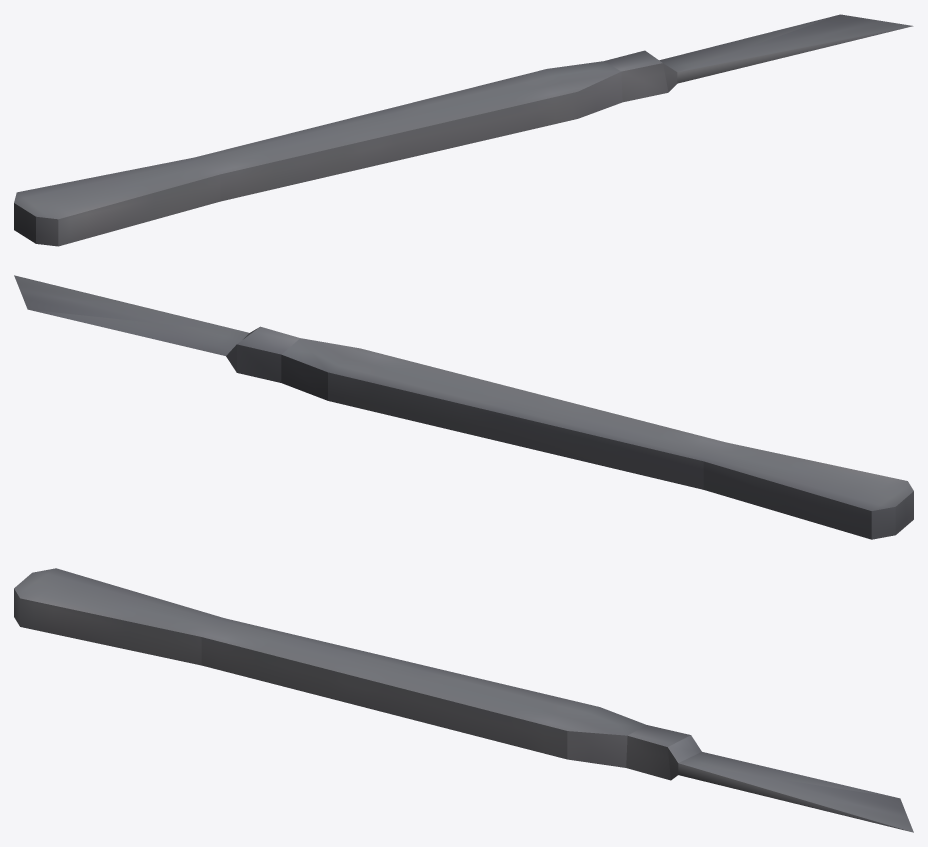
The model's file is scissors_02.fbx.
3 renders of one model, top to bottom at view 1: azimuth 30°, elevation 25°; view 2: azimuth 150°, elevation 25°; view 3: azimuth 330°, elevation 25°, orthographic. The views are drawn at different scales.
Parts seen in each view (by area): view 1: scissors_02; view 2: scissors_02; view 3: scissors_02.
Boxes of the visible parts, x1,y1,x2,y2 form: scissors_02: [14, 14, 913, 246]; scissors_02: [14, 275, 913, 539]; scissors_02: [14, 568, 913, 832].
Size of the model in its own units: 0.1013 by 0.00332 by 0.00805.
